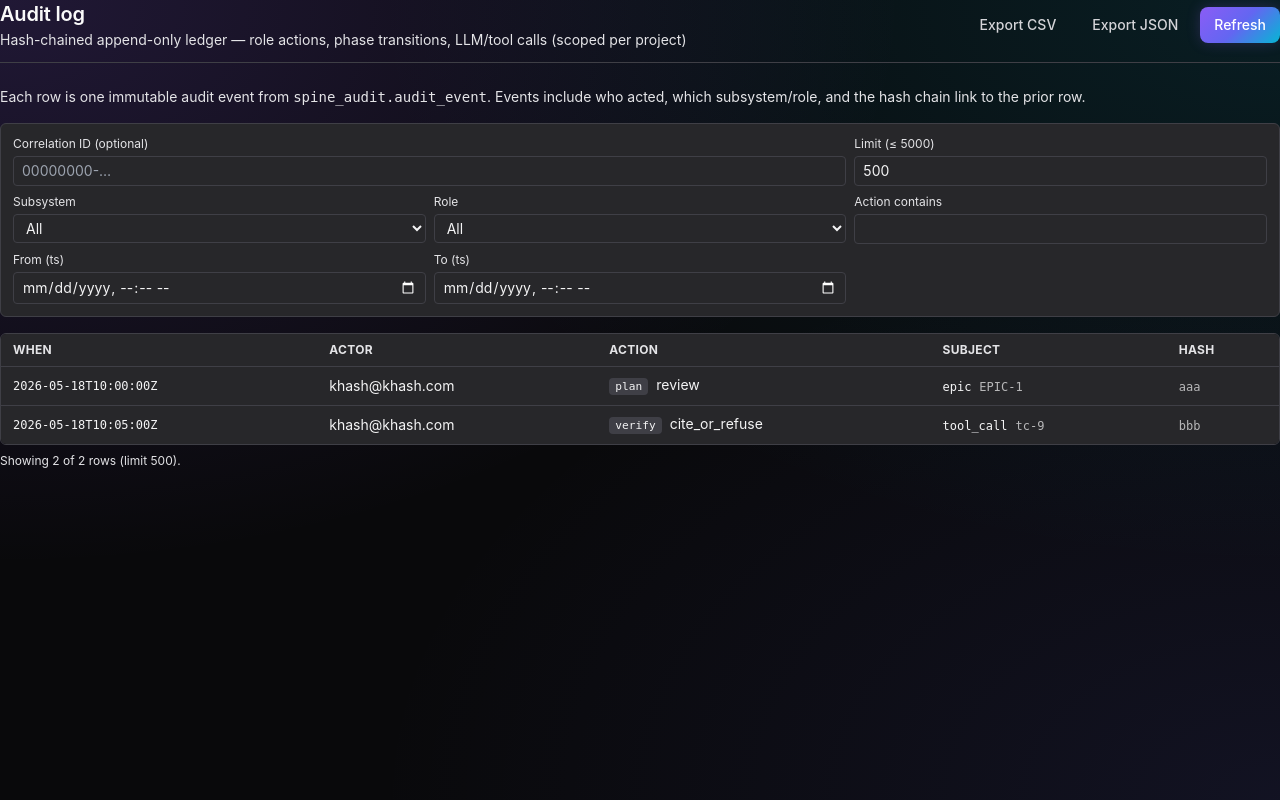
Test: AuditPanel › opens a detail modal on row click
Expected: the form with test id "filter-project" holds "proj-1", [0,123,1279,317]
Click the row with test id "audit-row" that starts with "2026-05-18T10:00:00Z" at (640, 386), box [1,366,1279,406]
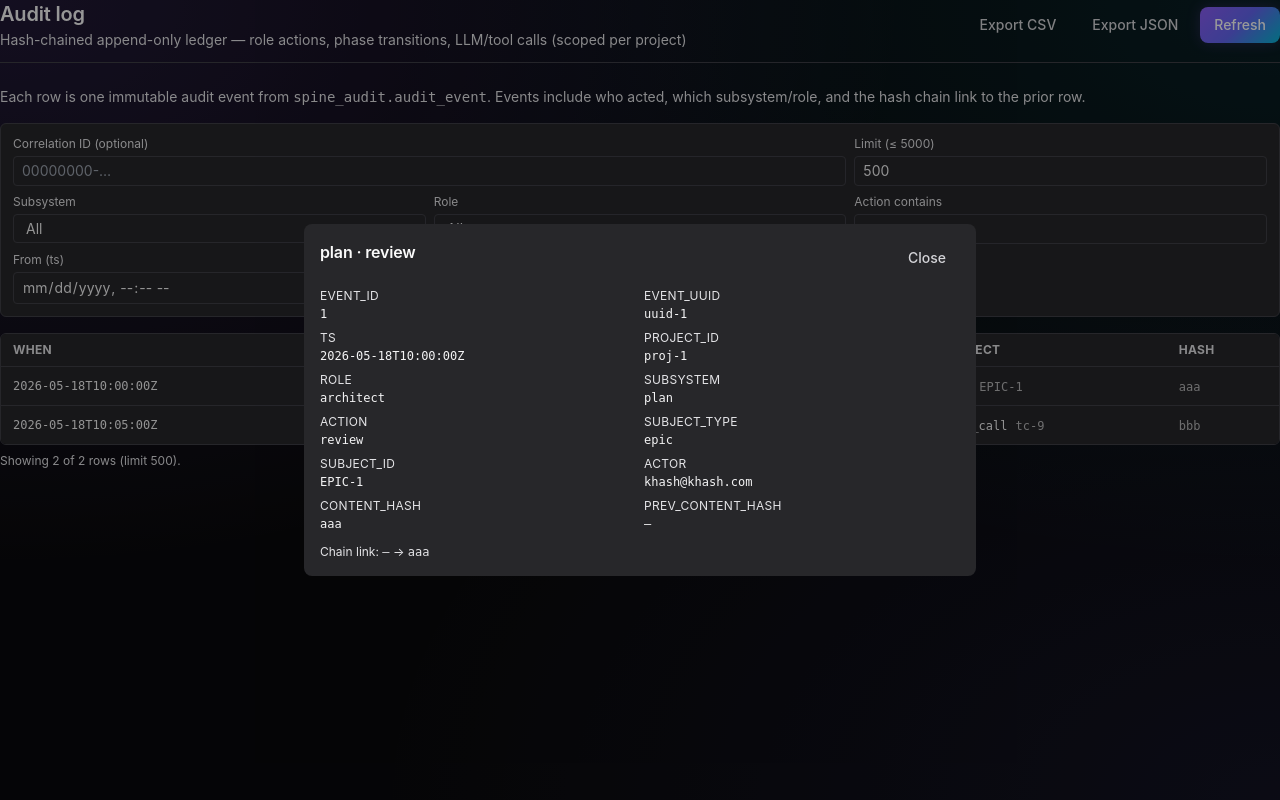
Expected: the dialog with test id "audit-detail" is shown
